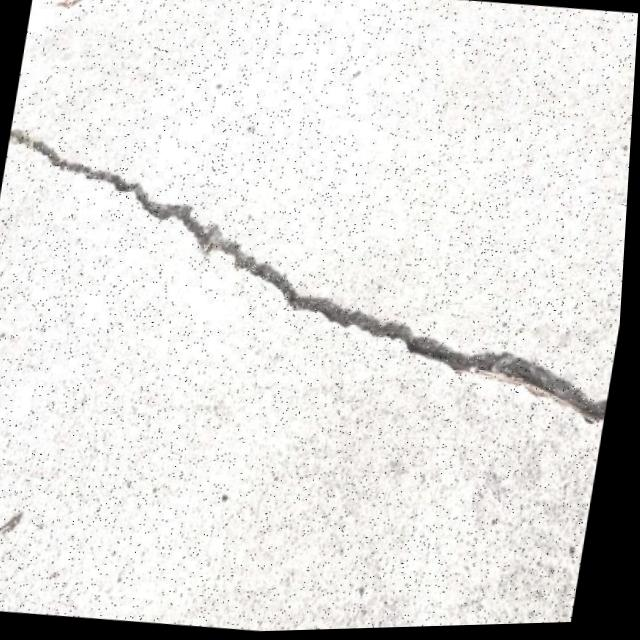Crack: (0, 98, 635, 466)
